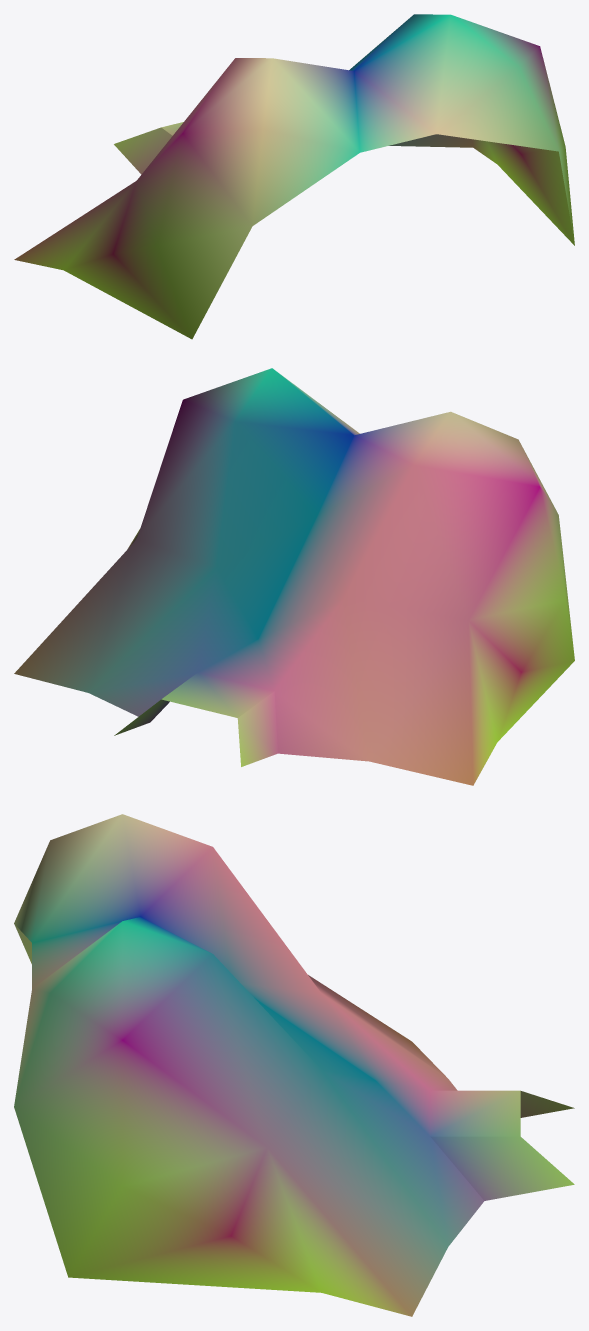
3 renders of one model, top to bottom at view 1: azimuth 30°, elevation 25°; view 2: azimuth 150°, elevation 25°; view 3: azimuth 270°, elevation 25°, orthographic. The views are drawn at different scales.
Parts seen in each view (by area): view 1: part; view 2: part; view 3: part.
Part boxes in pixels (left/top/right/bottom): part: left=14, top=14, right=574, bottom=339; part: left=14, top=368, right=574, bottom=785; part: left=14, top=814, right=574, bottom=1316.
Size of the model in its own units: 36 by 19 by 31.
